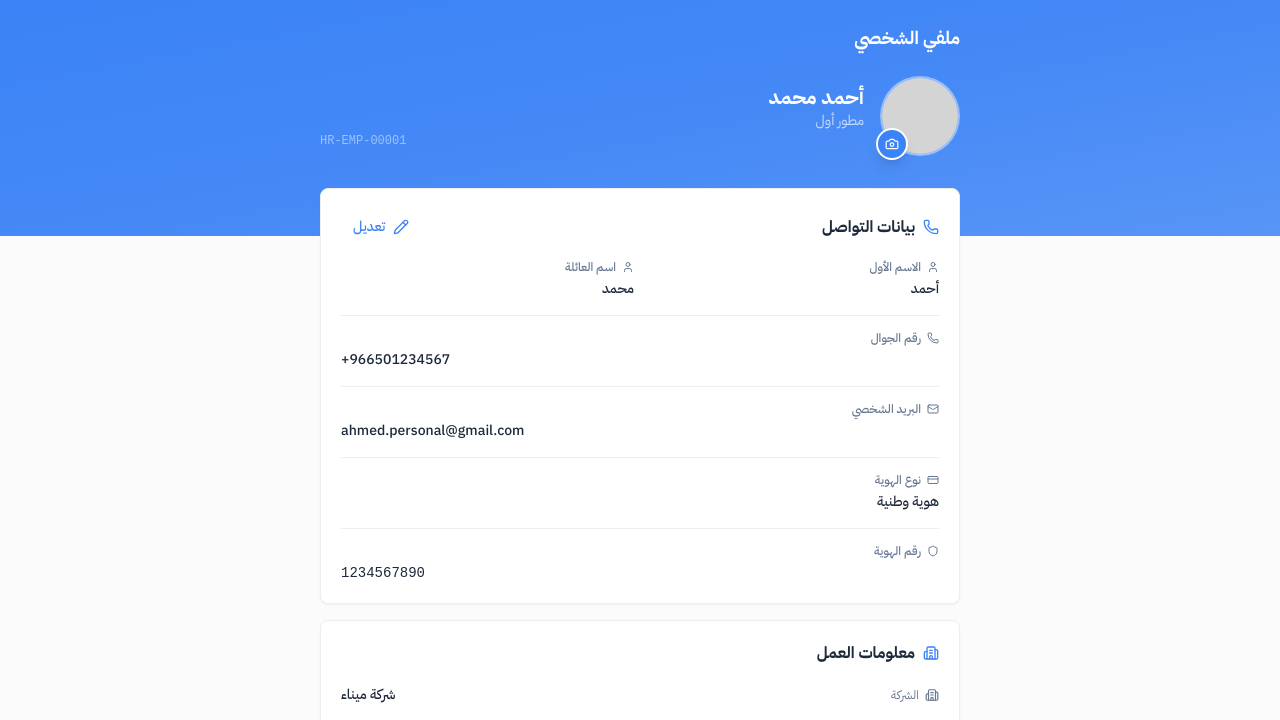
SelfServiceProfile › Edit Mode › should cancel editing and restore original values
Expected: the heading "أحمد محمد" is shown, top-left (768, 82), bottom-right (864, 112)
Click the button "تعديل" at (381, 227), box top-left (341, 209), bottom-right (421, 245)
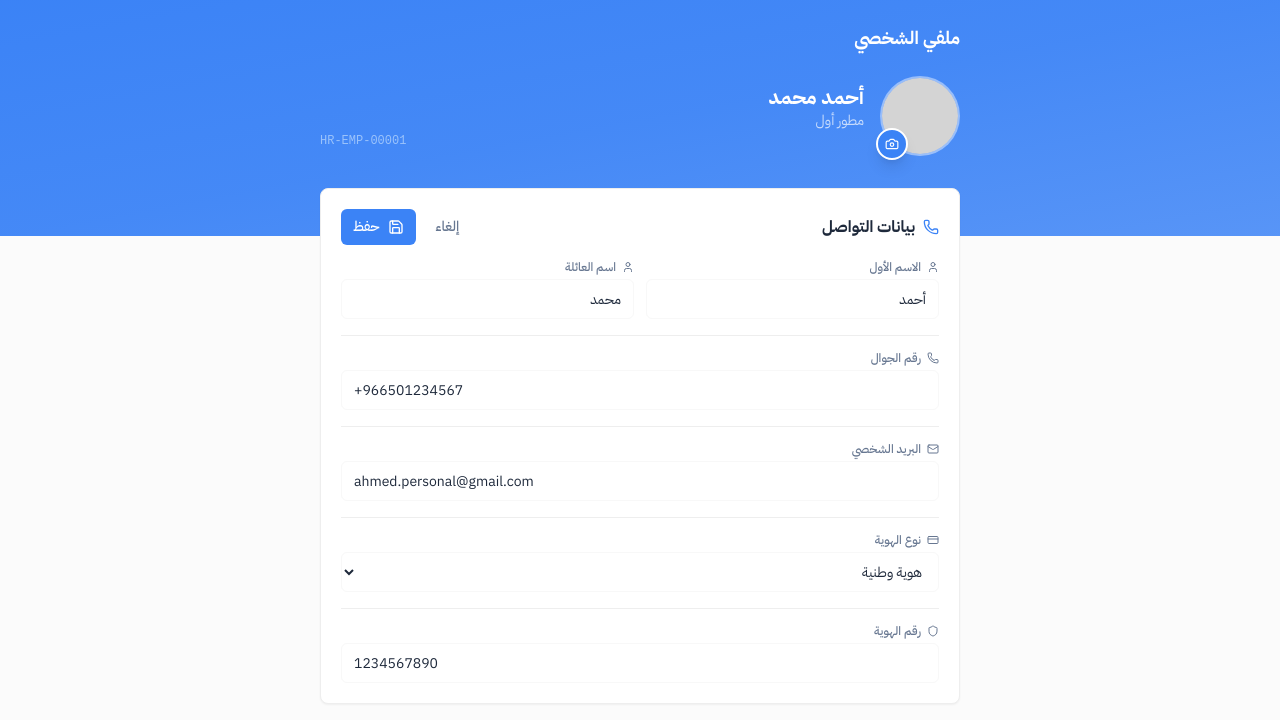
Note: Change phone number
Replace the text in the field with placeholder "+966 5xx xxx xxxx" below "رقم الجوال" with "+966509999999" at (640, 390), box top-left (341, 370), bottom-right (939, 410)
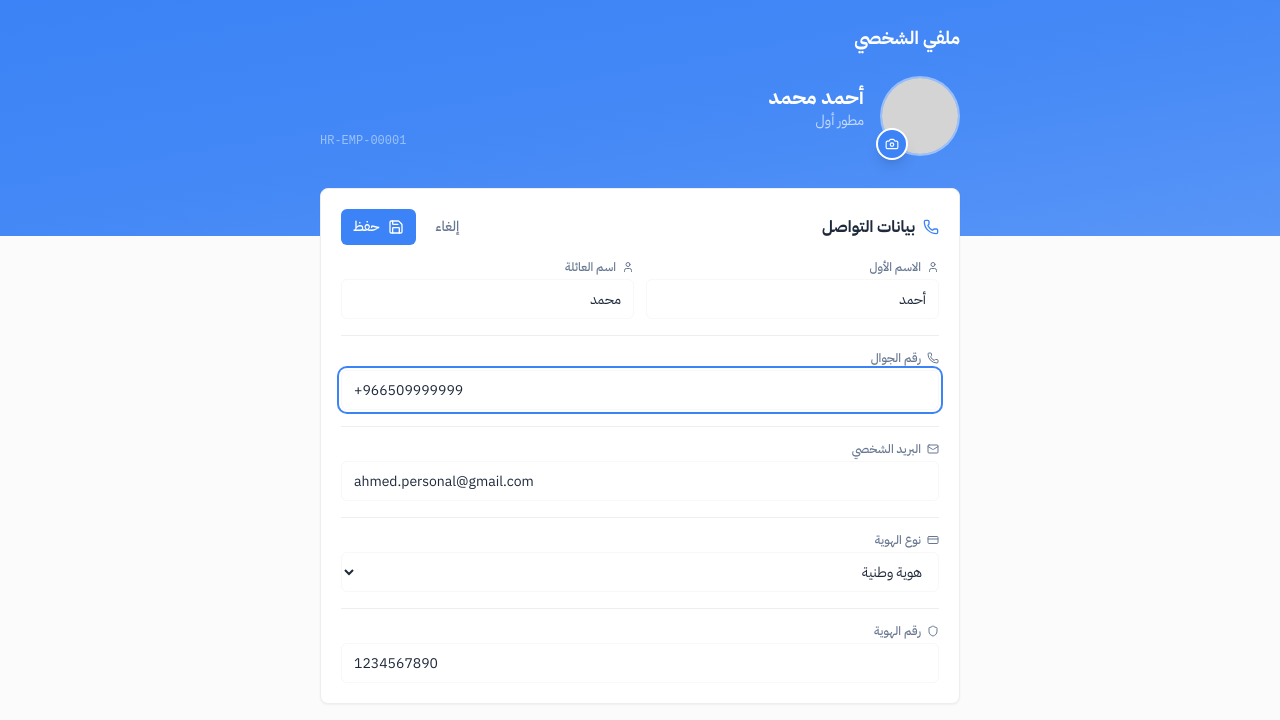
Click the button "إلغاء" at (448, 227), box top-left (424, 209), bottom-right (471, 245)
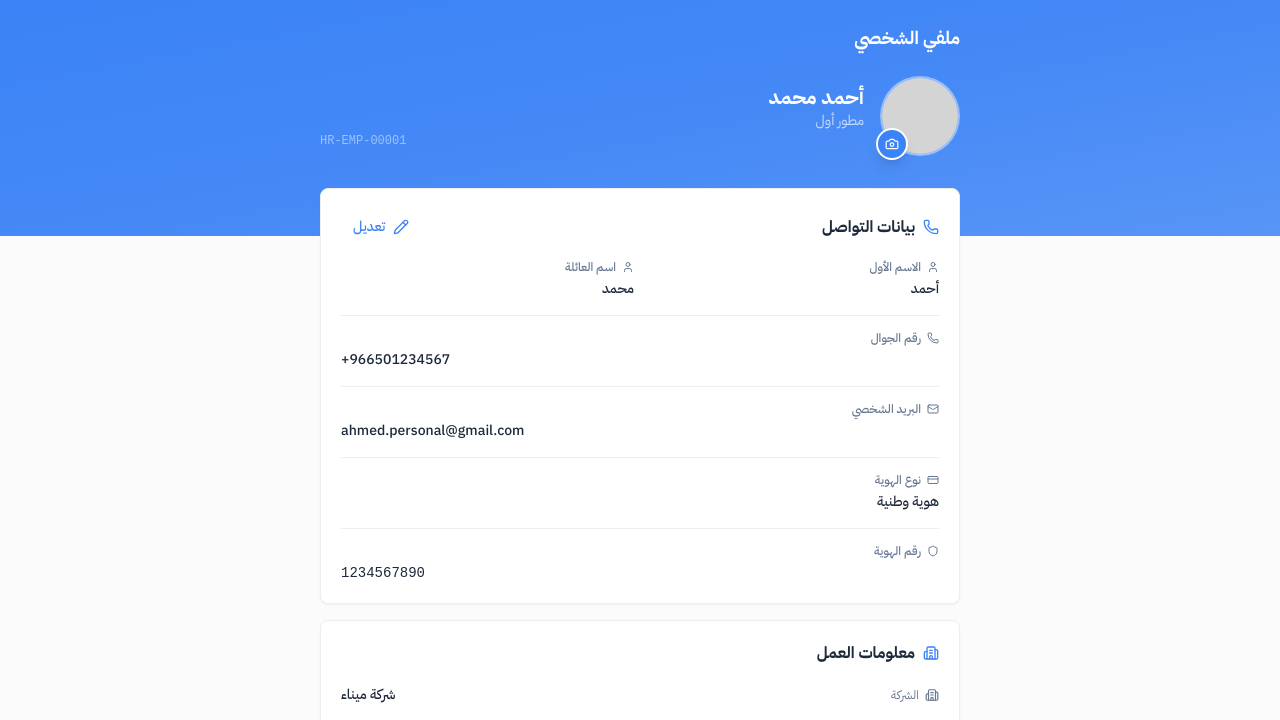
Expected: the text "+966501234567" is shown, top-left (341, 349), bottom-right (450, 370)
